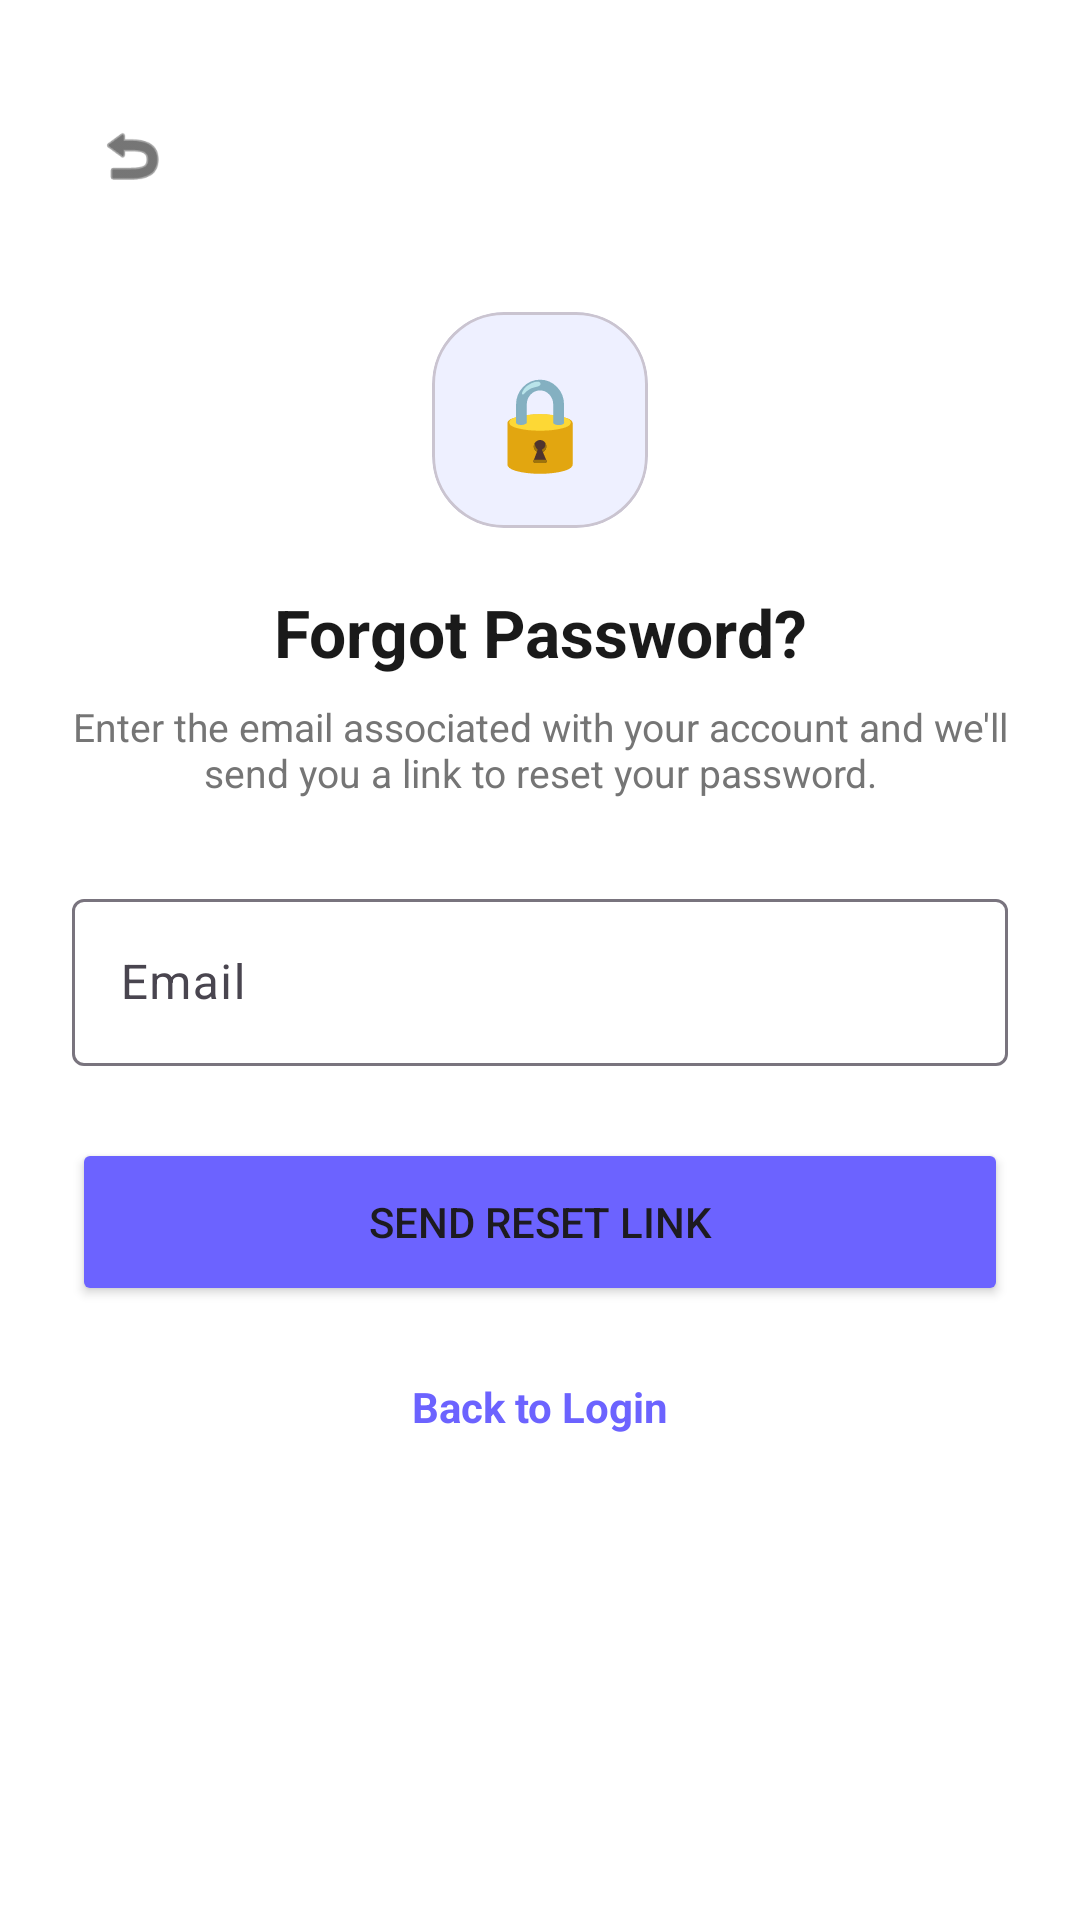

Icons on this 1080px×1920px Android screen, each with the point to tap as [x,y]:
revert: [133,156]
